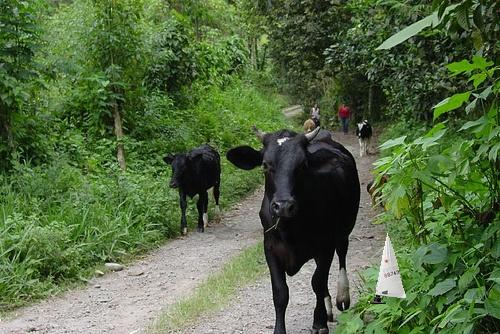tampered: (369, 234, 406, 304)
